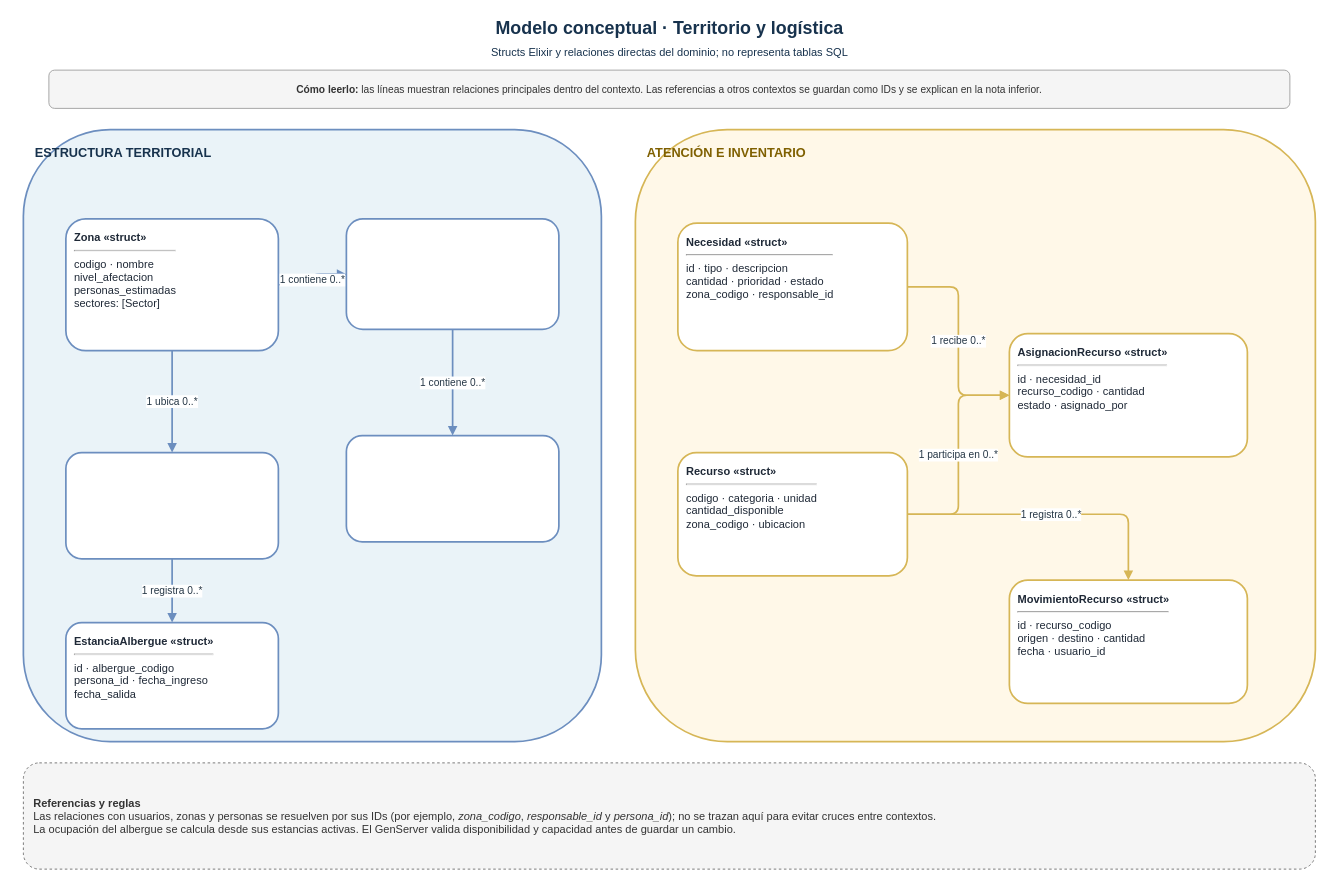
Some shapes in this 1338 by 884 pixel diagram are drawn without their labels. Here are the shapes that lost their labels. From the top down, the centre of each, then its label:
At [452,274]: "Sector «struct» codigo · nombre puntos: [PuntoAtencion]".
At [172,505]: "Albergue «struct» codigo · nombre capacidad_maxima zona_codigo".
At [452,488]: "PuntoAtencion «struct» codigo · nombre estado · estimado_afectados".
